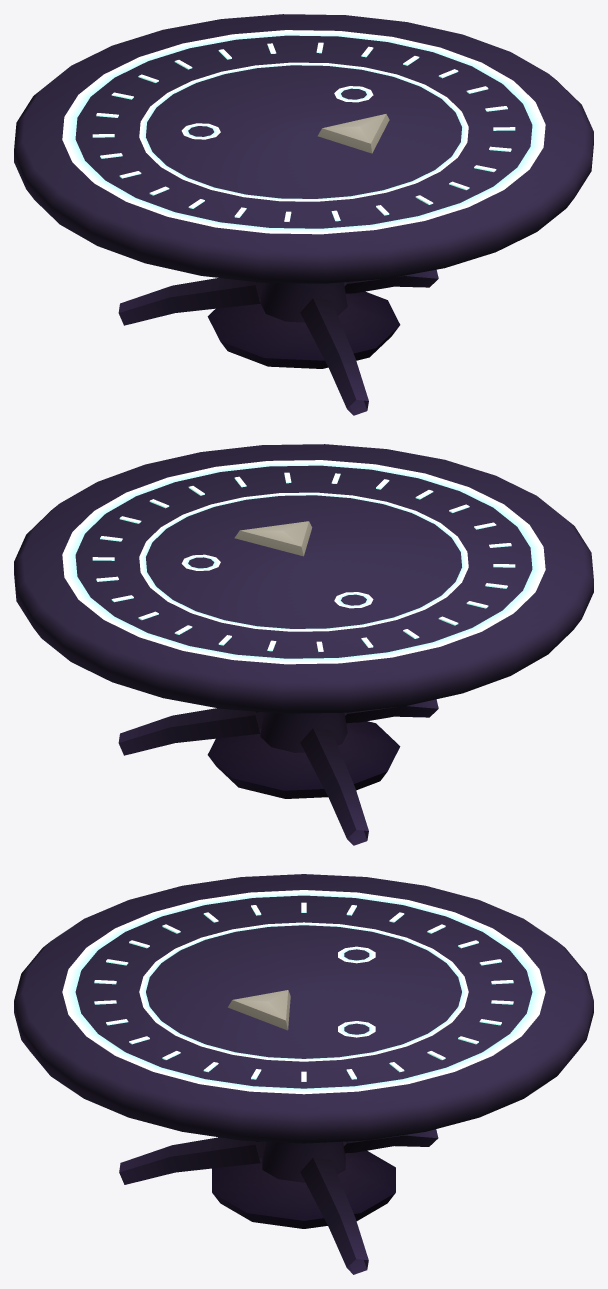
Rendered from scry_table.glb.
3 renders of one model, top to bottom at view 1: azimuth 30°, elevation 25°; view 2: azimuth 150°, elevation 25°; view 3: azimuth 270°, elevation 25°, orthographic.
Visible parts, largest first — view 1: scry_table_trim, scry_table_glow; view 2: scry_table_trim, scry_table_glow; view 3: scry_table_trim, scry_table_glow.
Boxes of the visible parts, x1,y1,x2,y2 form: scry_table_trim: (14,14,593,415); scry_table_glow: (62,30,545,234); scry_table_trim: (14,444,593,845); scry_table_glow: (62,460,545,664); scry_table_trim: (14,874,593,1274); scry_table_glow: (62,890,545,1094).
Bounding box in the file's own units: 1.32 × 0.5496 × 1.32.
